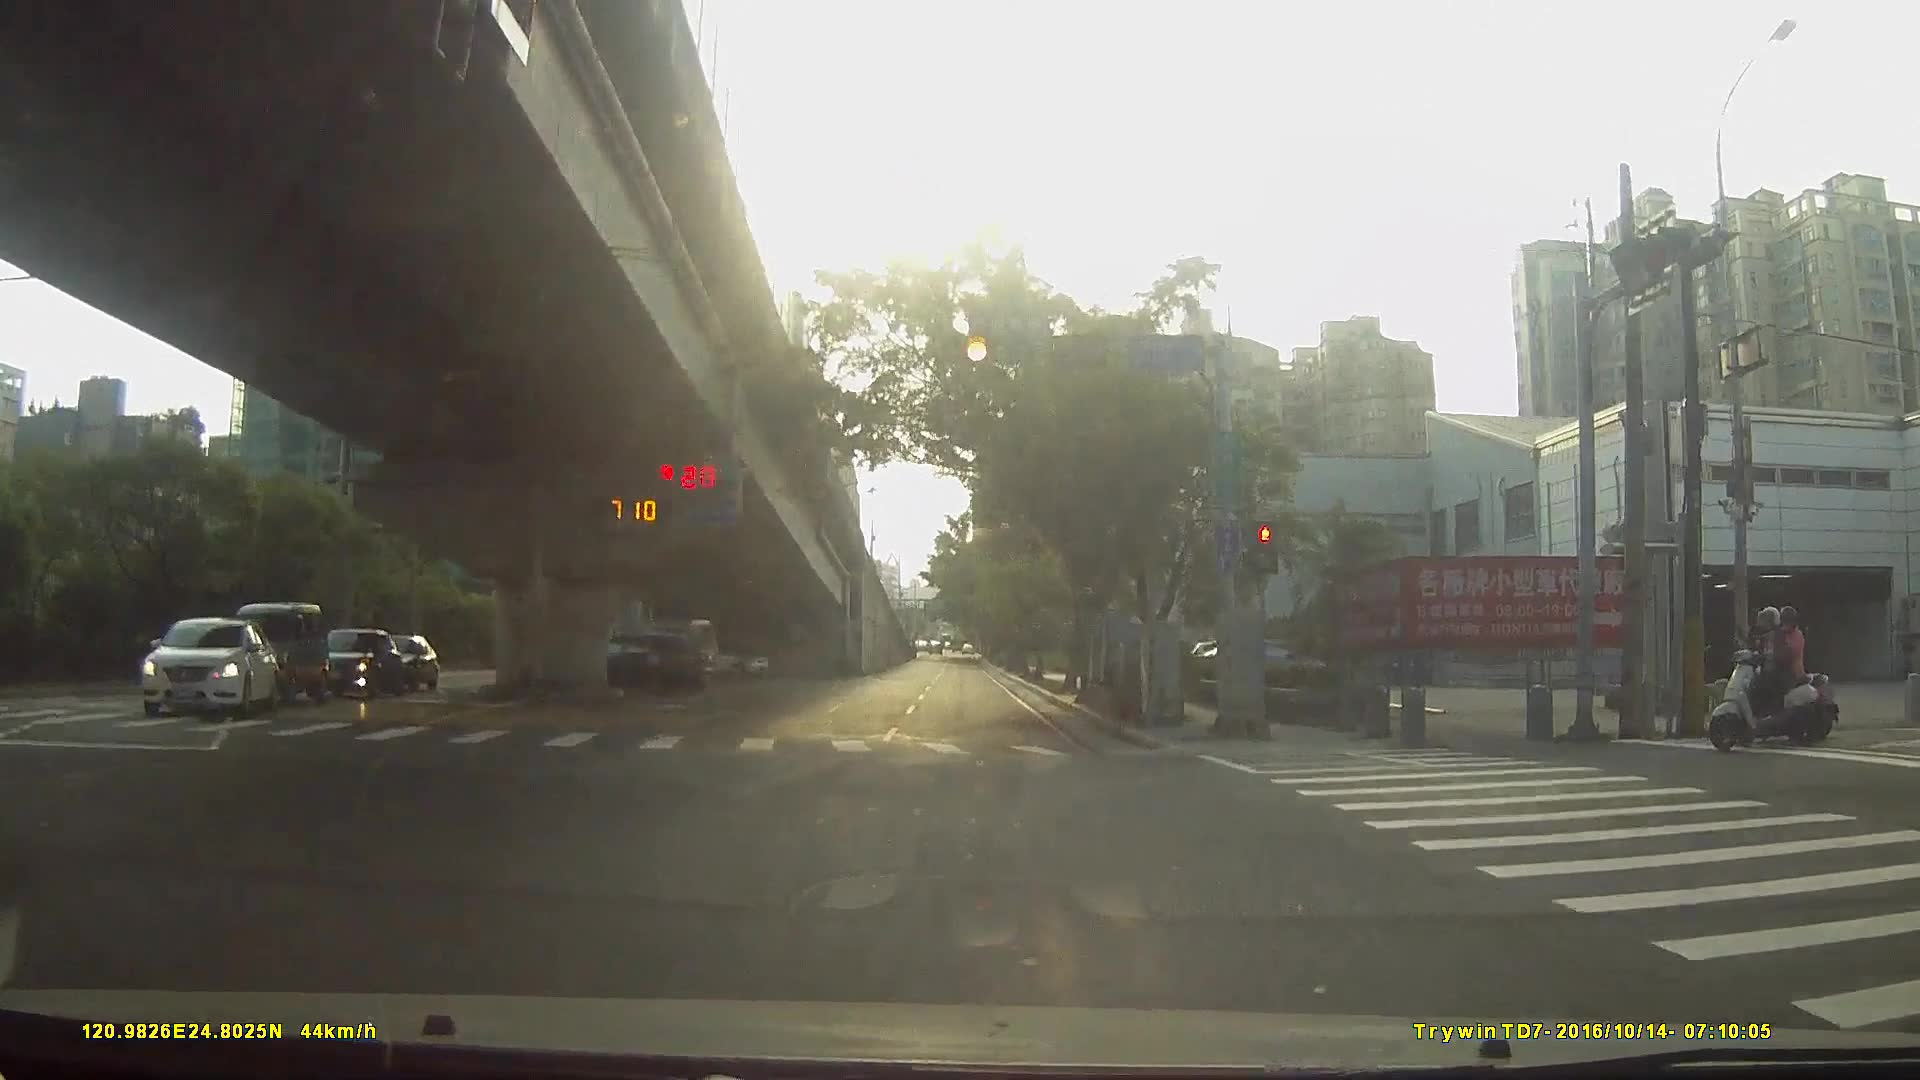rider: (1706, 609, 1831, 750)
vehicle: (125, 615, 289, 717), (224, 604, 321, 707), (564, 633, 711, 699), (303, 631, 403, 703), (356, 636, 434, 693), (673, 642, 769, 686)
